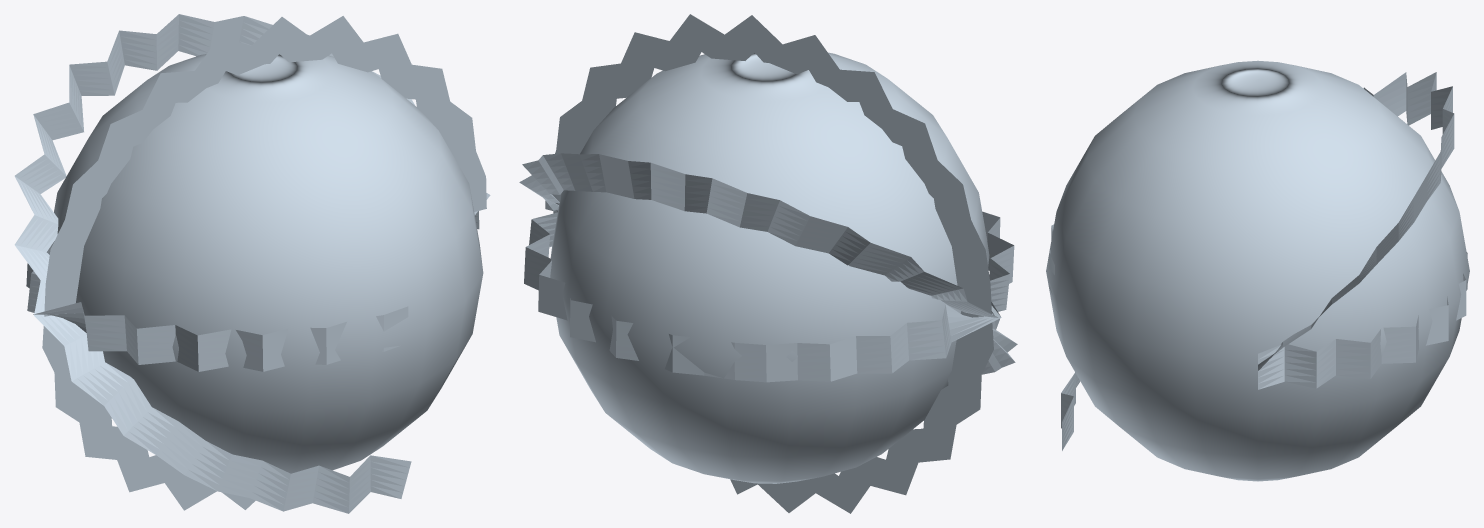
File: 2085_LightningOrbs_EightOrbs_DarkElectroOrb.fbx
The picture shows the model from 3 angles, left to right: view 1: azimuth 30°, elevation 25°; view 2: azimuth 150°, elevation 25°; view 3: azimuth 270°, elevation 25°; orthographic projection. The views are drawn at different scales.
Visible parts, largest first — view 1: PART_SaturatedDarkVioletOrb, PART_OrbSurfaceElectricCurl_1, PART_OrbSurfaceElectricCurl_0, PART_OrbSurfaceElectricCurl_2; view 2: PART_SaturatedDarkVioletOrb, PART_OrbSurfaceElectricCurl_0, PART_OrbSurfaceElectricCurl_1, PART_OrbSurfaceElectricCurl_2; view 3: PART_SaturatedDarkVioletOrb, PART_OrbSurfaceElectricCurl_2, PART_OrbSurfaceElectricCurl_1.
Boxes of the visible parts, x1,y1,x2,y2 form: PART_SaturatedDarkVioletOrb: (47,54,483,473); PART_OrbSurfaceElectricCurl_1: (14,14,490,513); PART_OrbSurfaceElectricCurl_0: (42,16,486,510); PART_OrbSurfaceElectricCurl_2: (26,211,479,371); PART_SaturatedDarkVioletOrb: (550,52,989,483); PART_OrbSurfaceElectricCurl_0: (545,14,993,513); PART_OrbSurfaceElectricCurl_1: (519,153,1017,374); PART_OrbSurfaceElectricCurl_2: (524,194,1014,382); PART_SaturatedDarkVioletOrb: (1046,60,1469,481); PART_OrbSurfaceElectricCurl_2: (1049,224,1467,389); PART_OrbSurfaceElectricCurl_1: (1061,72,1454,450).
Size of the model in its own units: 64.88 by 65.79 by 54.
